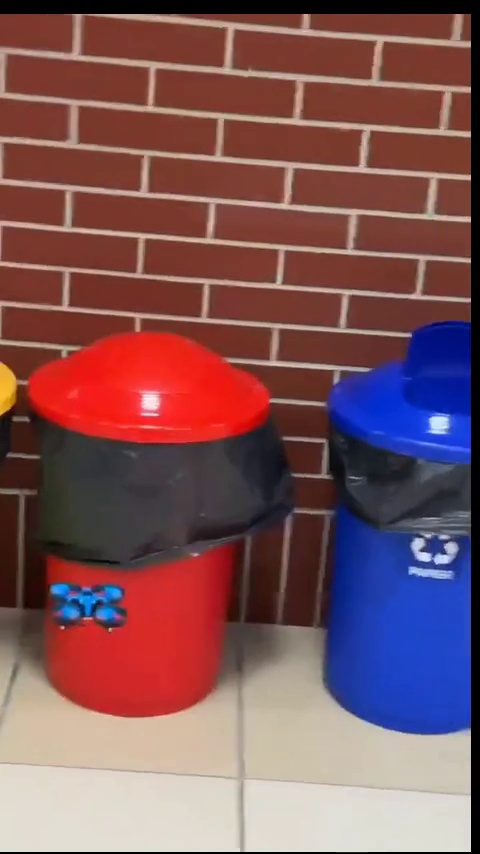drone: (53, 585, 129, 634)
